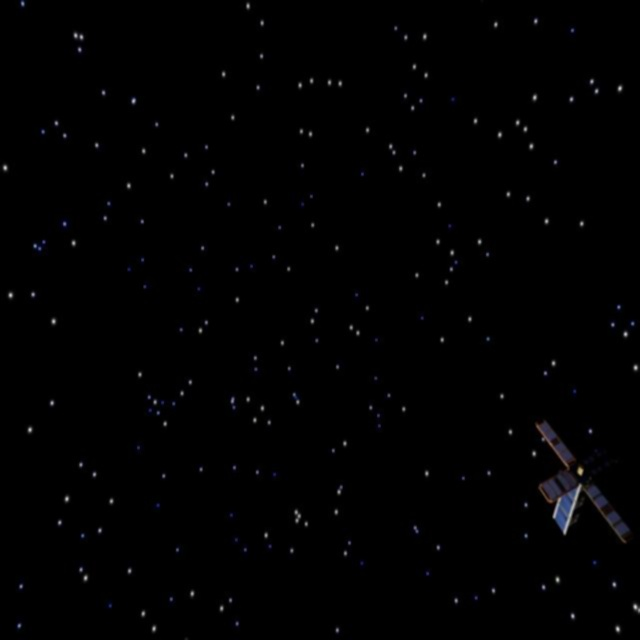medium_debris: (519, 419, 634, 549)
